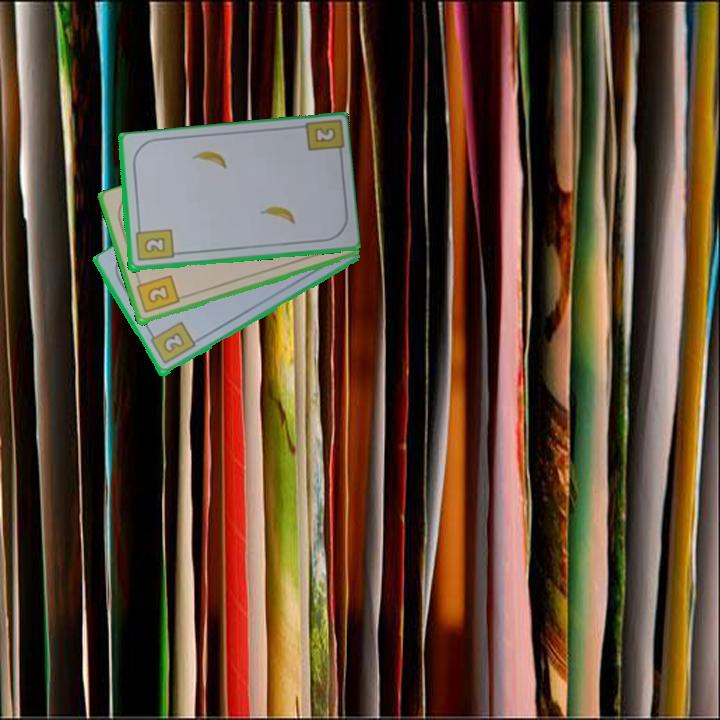2b: (145, 318, 198, 368), (133, 272, 182, 316), (132, 222, 176, 264), (313, 126, 336, 144)
